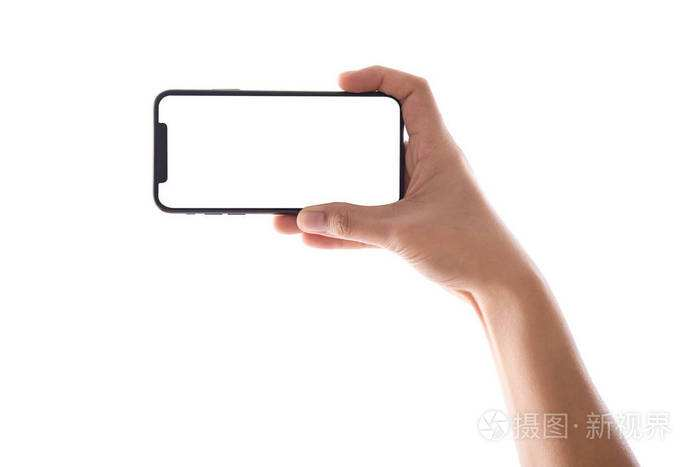phone: (143, 62, 527, 299)
